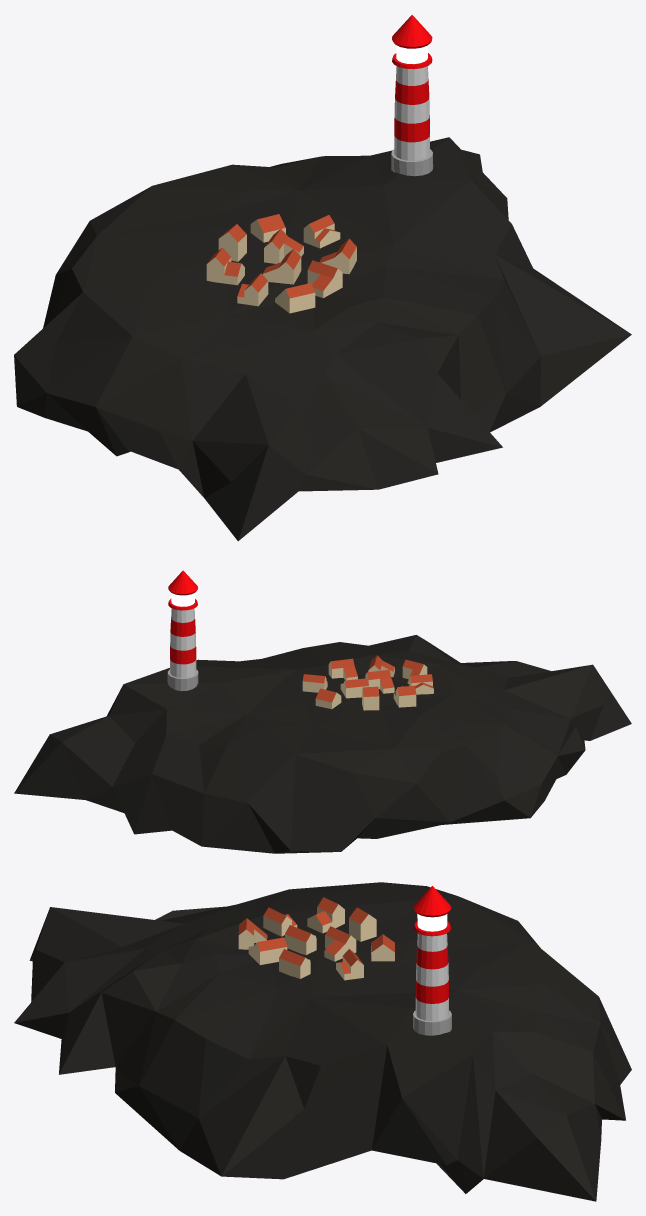
Rendered from LightHouse.glb.
3 views of the same model, one above another, from view 1: azimuth 30°, elevation 25°; view 2: azimuth 150°, elevation 25°; view 3: azimuth 270°, elevation 25° (orthographic). The views are drawn at different scales.
Visible parts, largest first — view 1: Base Rocks, Light House, Cube.004, Cube.007, Cube.003, Cube.006, Cube.008, Cube.009, Cube, Cube.002, Cube.005; view 2: Base Rocks, Light House, Cube.002, Cube.006, Cube.004, Cube.009, Cube.005, Cube, Cube.001, Cube.008; view 3: Base Rocks, Light House, Cube.004, Cube.009, Cube.007, Cube, Cube.002, Cube.006, Cube.008, Cube.005, Cube.003, Cube.001.
Part boxes in pixels (<box>): Base Rocks: <box>14,137,631,541</box>; Light House: <box>391,15,433,176</box>; Cube.004: <box>206,247,244,285</box>; Cube.007: <box>307,260,342,298</box>; Cube.003: <box>275,283,315,313</box>; Cube.006: <box>262,249,301,284</box>; Cube.008: <box>303,215,340,248</box>; Cube.009: <box>264,229,303,263</box>; Cube: <box>218,224,246,261</box>; Cube.002: <box>319,238,356,274</box>; Cube.005: <box>237,273,268,306</box>; Base Rocks: <box>14,635,631,853</box>; Light House: <box>167,570,198,691</box>; Cube.002: <box>328,658,357,680</box>; Cube.006: <box>365,669,394,693</box>; Cube.004: <box>393,685,416,707</box>; Cube.009: <box>340,678,368,698</box>; Cube.005: <box>409,674,433,694</box>; Cube: <box>362,686,379,710</box>; Cube.001: <box>315,688,341,709</box>; Cube.008: <box>302,674,327,692</box>; Base Rocks: <box>14,882,631,1201</box>; Light House: <box>413,886,451,1035</box>; Cube.004: <box>307,897,344,933</box>; Cube.009: <box>324,926,356,961</box>; Cube.007: <box>248,937,287,964</box>; Cube: <box>349,907,376,941</box>; Cube.002: <box>279,949,310,978</box>; Cube.006: <box>285,925,316,955</box>; Cube.008: <box>336,949,363,980</box>; Cube.005: <box>263,907,297,936</box>; Cube.003: <box>238,918,267,949</box>; Cube.001: <box>371,934,394,961</box>.
Size of what is drawn, in the model's own units: 16.98 by 8.75 by 17.09.
